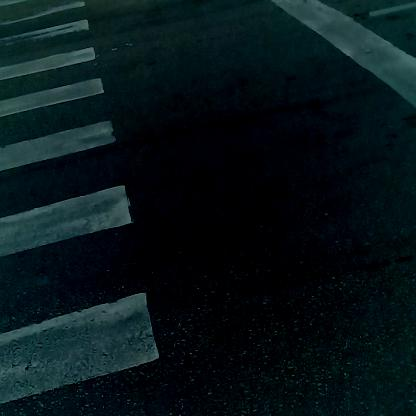crosswalk: (4, 5, 148, 409)
